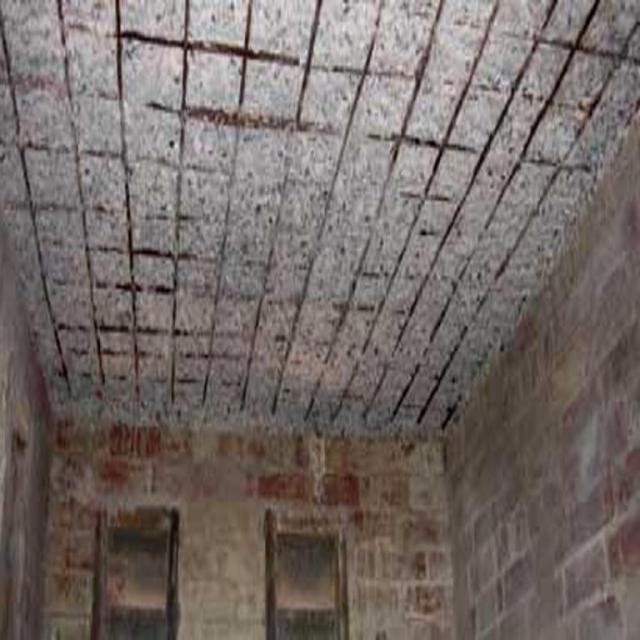spalling: (0, 0, 639, 440)
